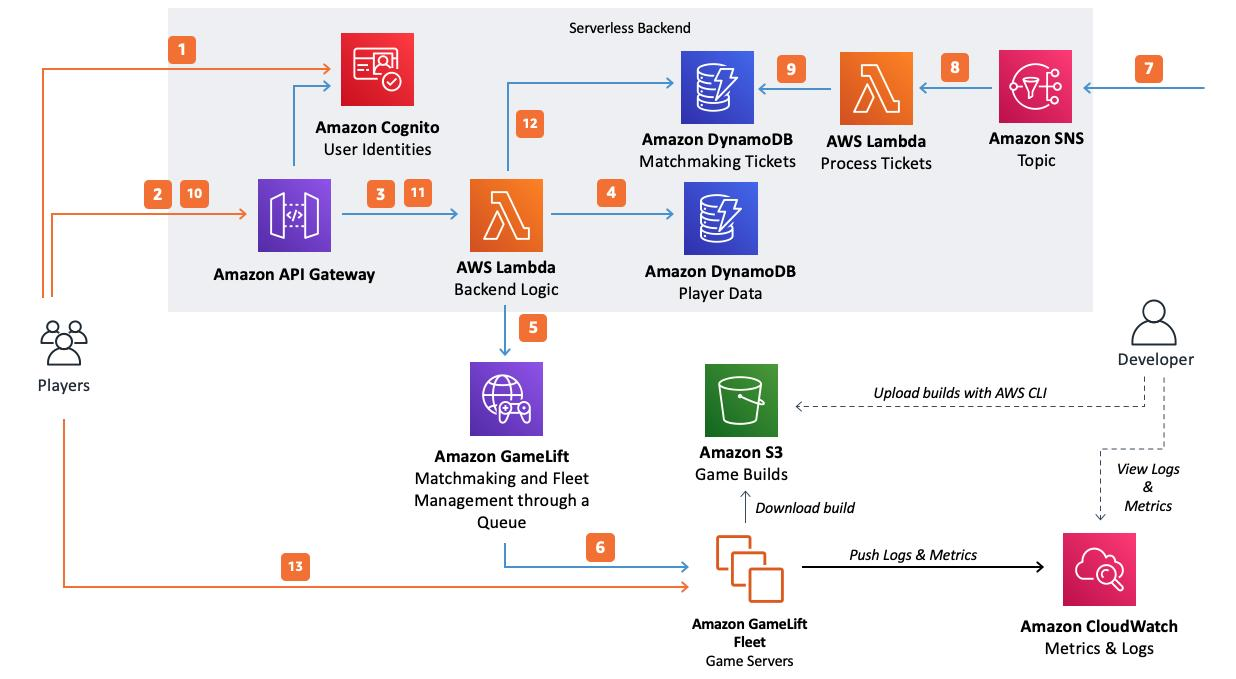API Gateway: (256, 181, 335, 256)
Auth: (337, 32, 421, 112)
Backend: (833, 47, 917, 129), (711, 530, 791, 610), (466, 178, 545, 254)
Configuration: (1068, 533, 1136, 604)
Database: (679, 46, 758, 128), (683, 180, 761, 255)
Game Server: (468, 360, 543, 440)
Messaging: (996, 51, 1072, 130)
Storage: (702, 361, 779, 445)
